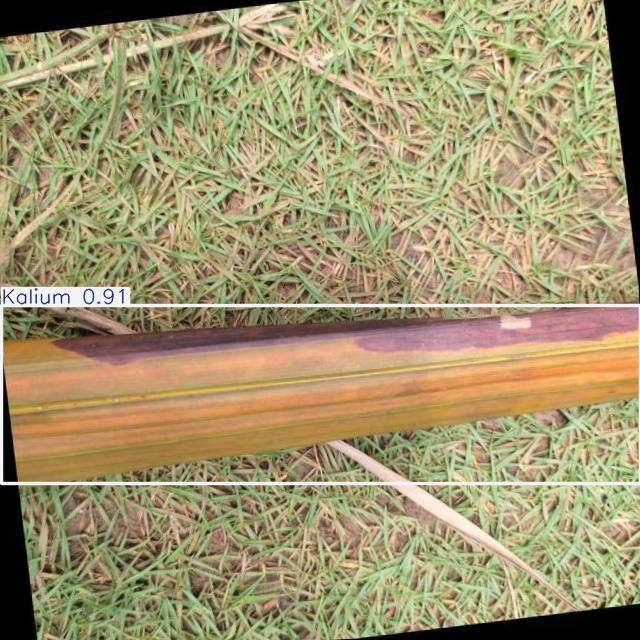Kalium: (2, 305, 640, 484)
